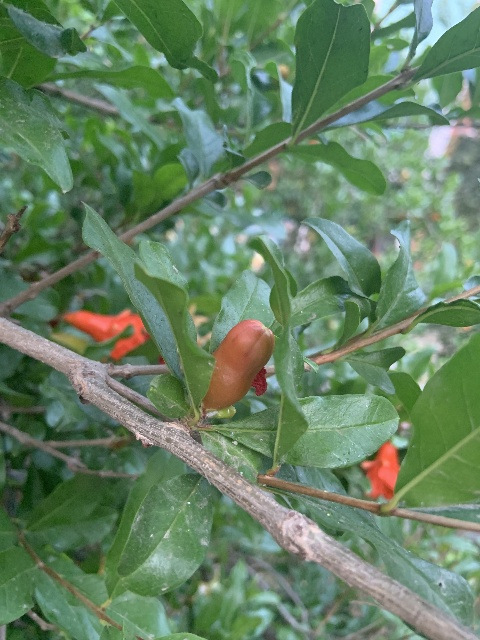bud: (203, 318, 274, 411), (215, 405, 236, 418)
flower: (62, 307, 148, 360), (360, 440, 401, 503)
